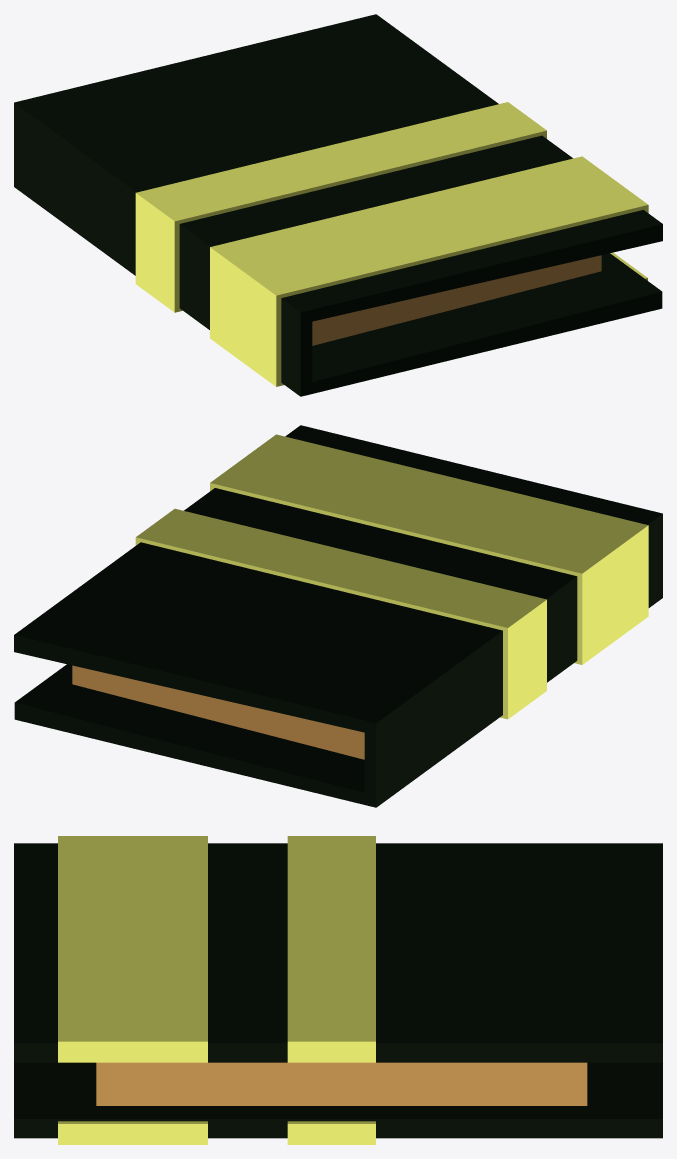
Rendered from Notebook 2.fbx.
3 renders of one model, top to bottom at view 1: azimuth 30°, elevation 25°; view 2: azimuth 150°, elevation 25°; view 3: azimuth 270°, elevation 25°, orthographic. The views are drawn at different scales.
Parts seen in each view (by area): view 1: Node 0; view 2: Node 0; view 3: Node 0.
Boxes of the visible parts, left/top/right/bottom form: Node 0: left=14, top=14, right=662, bottom=396; Node 0: left=14, top=425, right=662, bottom=807; Node 0: left=14, top=836, right=662, bottom=1144.
Size of the model in its own units: 0.3165 by 0.0557 by 0.2373.
